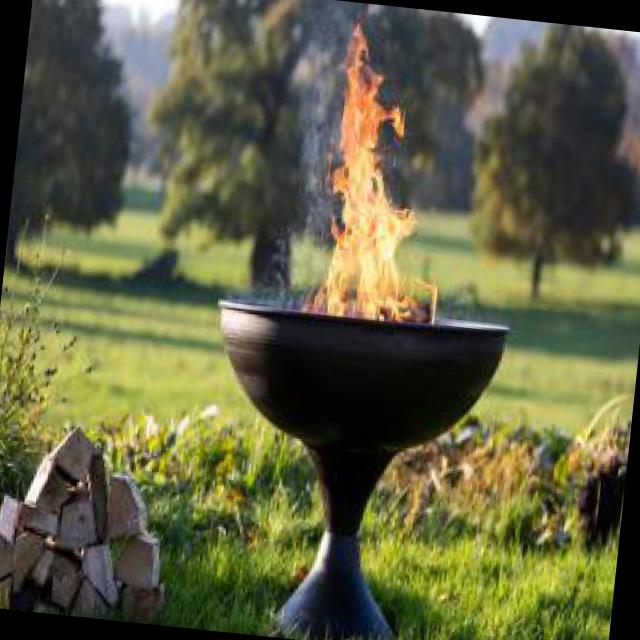fire: (319, 39, 435, 305)
smoke: (287, 5, 356, 233), (261, 224, 324, 309)
